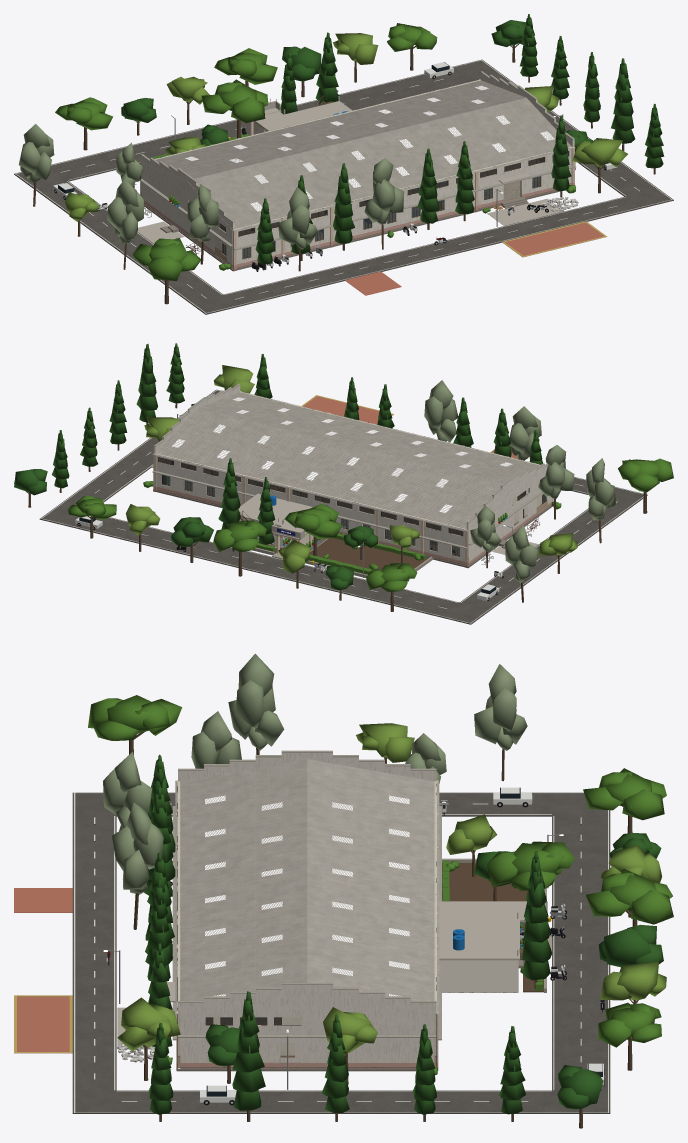
The model's file is college_workshop.opt.glb.
3 renders of one model, top to bottom at view 1: azimuth 30°, elevation 25°; view 2: azimuth 150°, elevation 25°; view 3: azimuth 270°, elevation 25°, orthographic. The views are drawn at different scales.
Visible parts, largest first — view 1: GLB_Vegetation, BAKE_Roof_Sheets, BAKE_Roads, BAKE_Exterior_Shell, GLB_Ground_and_Roads, GLB_Windows, GLB_Skylights, GLB_Vehicles, BAKE_Walls_Interior, BAKE_Floor_Interior, GLB_Store_Room_and_Annex, GLB_Entrance_Corridor (+2 smaller); view 2: GLB_Vegetation, BAKE_Roof_Sheets, BAKE_Roads, BAKE_Exterior_Shell, GLB_Ground_and_Roads, GLB_Windows, BAKE_Walls_Interior, GLB_Skylights, GLB_Store_Room_and_Annex, BAKE_Floor_Interior, GLB_Entrance_Corridor, GLB_Vehicles; view 3: GLB_Vegetation, BAKE_Roof_Sheets, BAKE_Roads, BAKE_Exterior_Shell, GLB_Ground_and_Roads, GLB_Store_Room_and_Annex, GLB_Skylights, GLB_Vehicles, BAKE_Walls_Interior, GLB_Entrance_Corridor, GLB_Roof_Structure, GLB_Exterior_Props.
Part boxes in pixels (x1,y1,x2,y2): GLB_Vegetation: (18, 14, 664, 304); BAKE_Roof_Sheets: (155, 80, 575, 231); BAKE_Roads: (14, 59, 673, 314); BAKE_Exterior_Shell: (140, 71, 575, 271); GLB_Ground_and_Roads: (137, 162, 607, 295); GLB_Windows: (219, 151, 568, 258); GLB_Skylights: (185, 86, 554, 211); GLB_Vehicles: (53, 62, 617, 271); BAKE_Walls_Interior: (141, 80, 572, 267); BAKE_Floor_Interior: (144, 159, 555, 268); GLB_Store_Room_and_Annex: (283, 96, 352, 123); GLB_Entrance_Corridor: (250, 99, 296, 135); GLB_Vegetation: (14, 343, 673, 611); BAKE_Roof_Sheets: (153, 392, 539, 531); BAKE_Roads: (39, 389, 647, 624); BAKE_Exterior_Shell: (151, 383, 553, 568); GLB_Ground_and_Roads: (252, 395, 538, 577); GLB_Windows: (158, 457, 546, 556); BAKE_Walls_Interior: (156, 391, 553, 564); GLB_Skylights: (172, 397, 512, 512); GLB_Store_Room_and_Annex: (238, 493, 308, 547); BAKE_Floor_Interior: (156, 465, 551, 565); GLB_Entrance_Corridor: (271, 506, 328, 559); GLB_Vehicles: (75, 516, 503, 601); GLB_Vegetation: (88, 653, 673, 1128); BAKE_Roof_Sheets: (175, 759, 439, 1014); BAKE_Roads: (72, 792, 610, 1113); BAKE_Exterior_Shell: (172, 750, 441, 1071); GLB_Ground_and_Roads: (14, 858, 551, 1053); GLB_Store_Room_and_Annex: (439, 912, 524, 992); GLB_Skylights: (205, 795, 409, 996); GLB_Vehicles: (106, 787, 605, 1105); BAKE_Walls_Interior: (178, 781, 436, 1066); GLB_Entrance_Corridor: (439, 890, 551, 950); GLB_Roof_Structure: (191, 763, 422, 1000); GLB_Exterior_Props: (103, 763, 563, 1089).
Size of the model in its own units: 90.84 by 14.75 by 67.49.
Materials: 9 (6 with a texture image).
